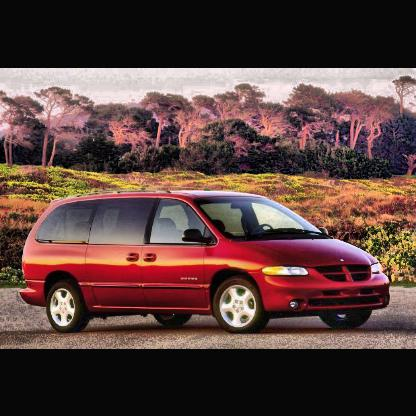Dodge Caravan Minivan 1997: (20, 189, 392, 335)
